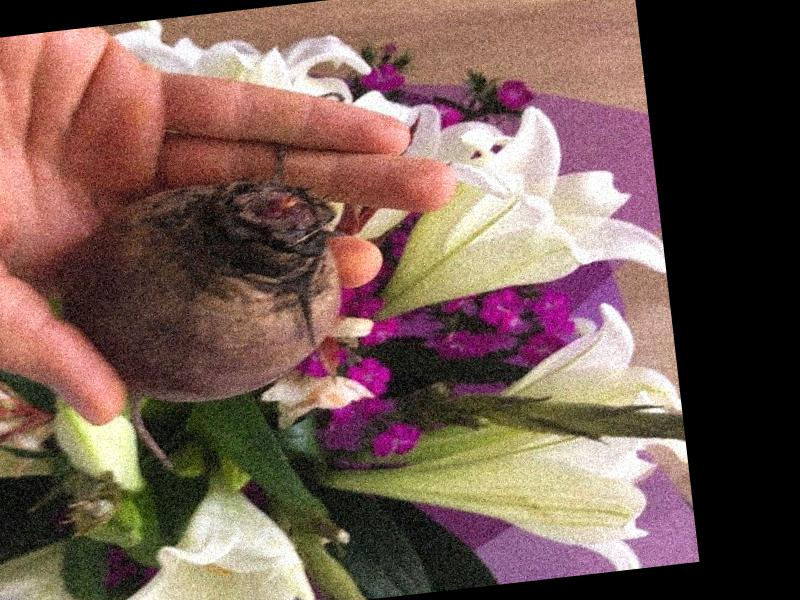Beet: (51, 169, 360, 482)
